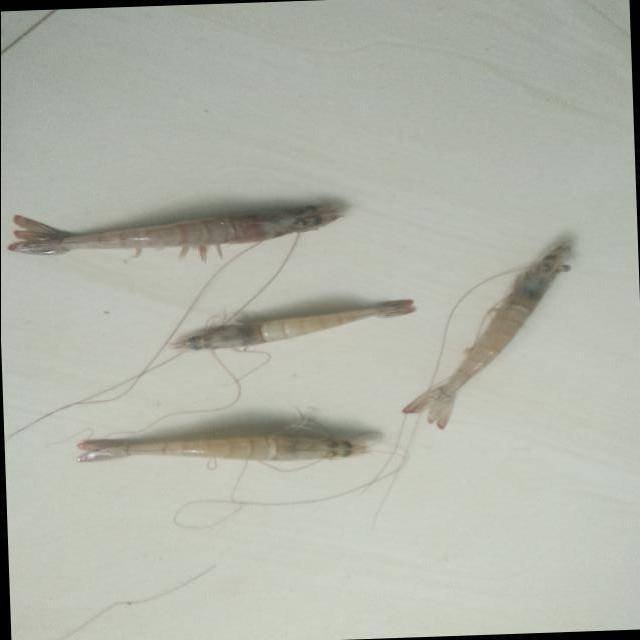shrimp: (403, 243, 571, 429), (7, 204, 342, 260), (173, 299, 416, 350), (77, 435, 374, 461)
